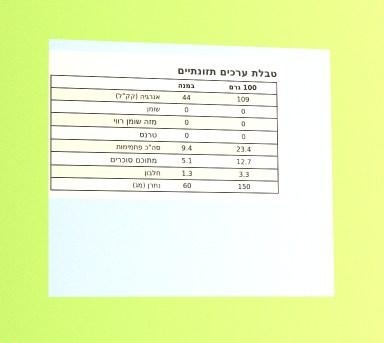carbs: (235, 144, 252, 154)
energy: (236, 94, 250, 105)
fat: (240, 106, 246, 116)
protein: (238, 169, 250, 180)
